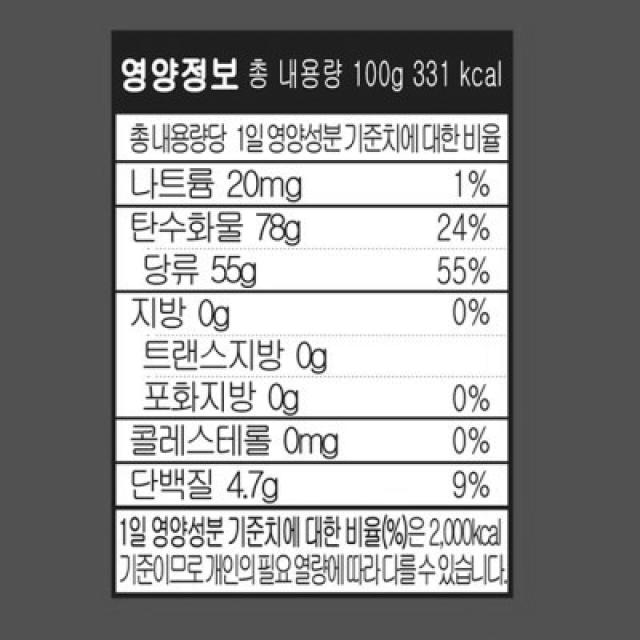Nutrition Label: (108, 13, 539, 619)
